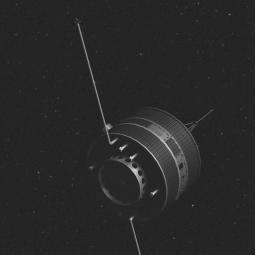double_start: (62, 92, 227, 218)
